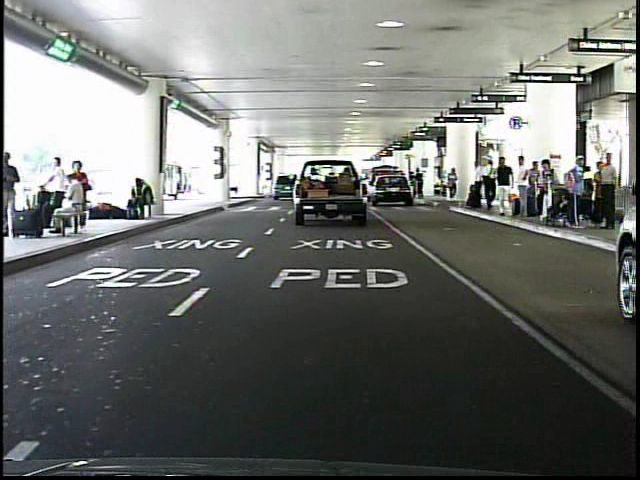person: (1, 151, 30, 239), (492, 153, 517, 221), (512, 153, 534, 220), (465, 154, 487, 213), (445, 166, 461, 204), (415, 167, 426, 202), (408, 168, 417, 200)
